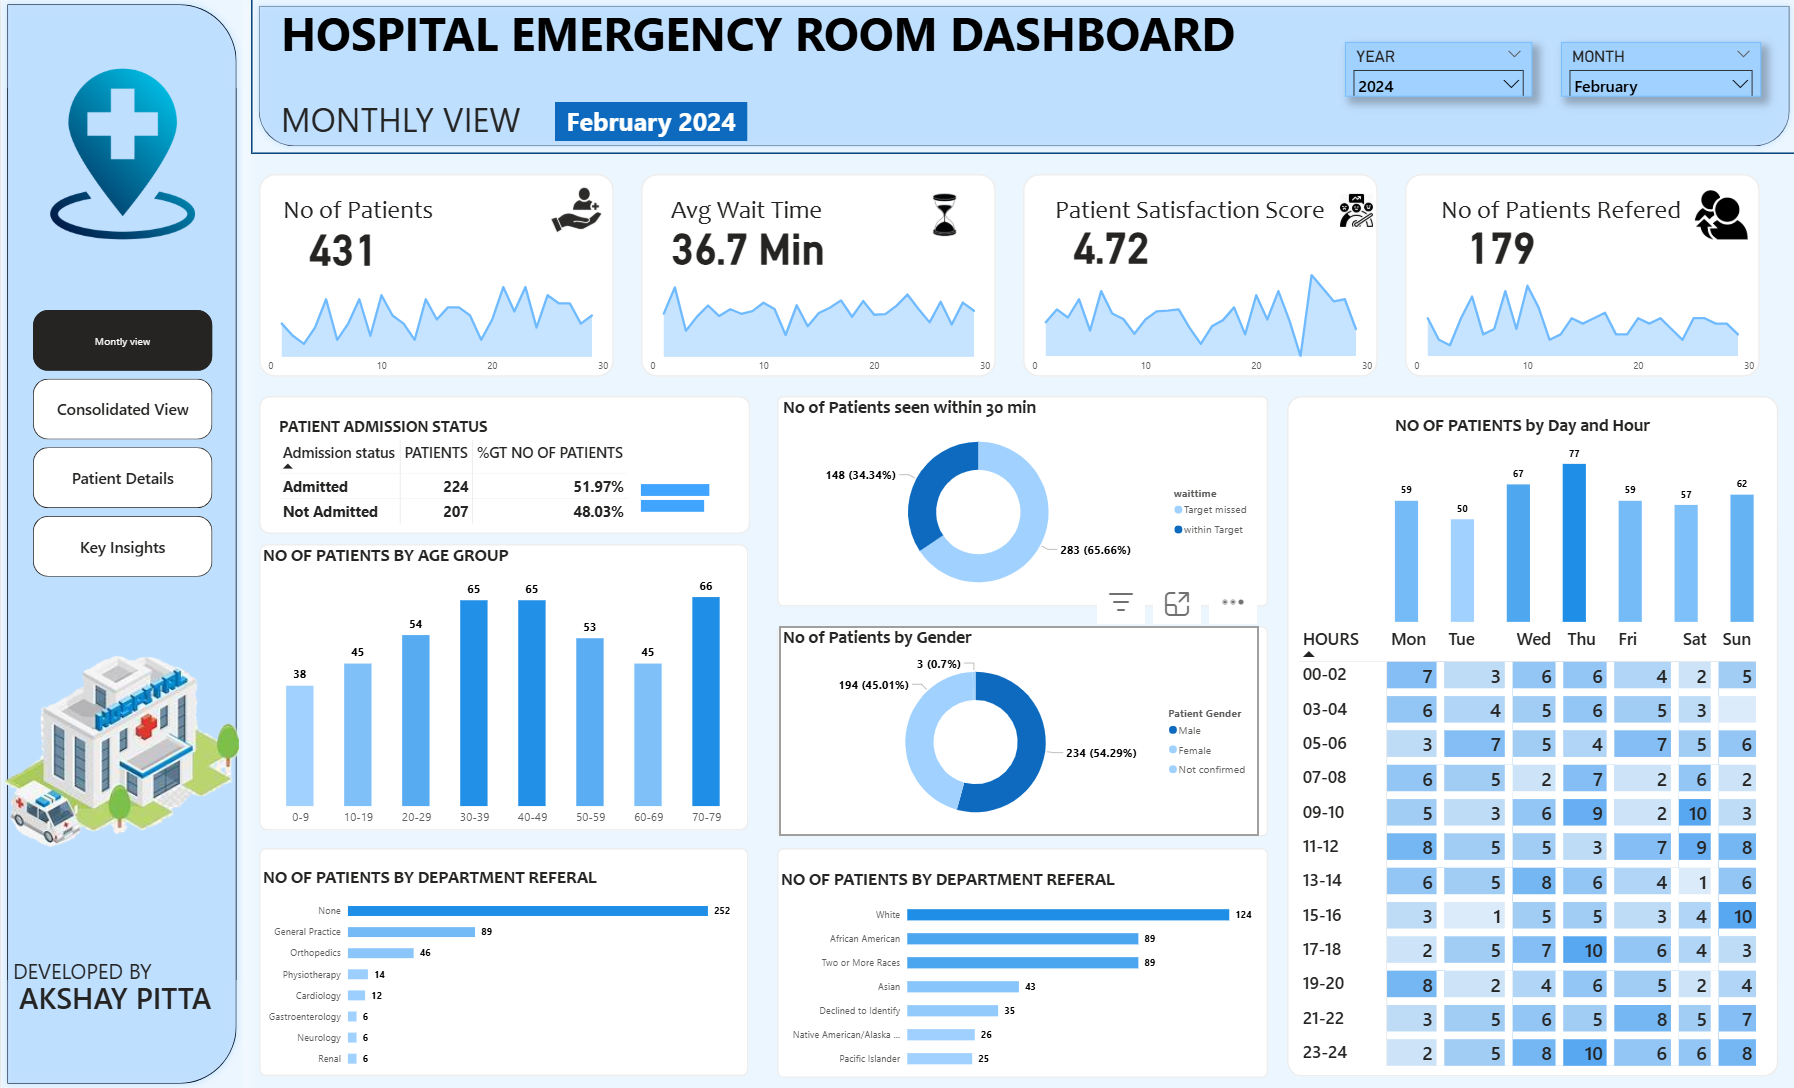

This screenshot's page, from the dashboard's own definition file:
{"tool":"powerbi","page":{"name":"Montly view","canvas":[2300,1400],"ordinal":0},"visuals":[{"type":"shape","box":[1647.5,510,630,872.5],"z":0},{"type":"shape","box":[330,226.7,455,260],"z":1000},{"type":"shape","box":[0,0,310,1400],"z":2000},{"type":"shape","box":[320,0,1982.5,200],"z":3000},{"type":"textbox","box":[355,0,1280,90],"z":4000},{"type":"textbox","box":[355,120,385,80],"z":5000},{"type":"card","fields":{"Values":["Hospital ER_Data.NO OF PATIENTS"]},"box":[356,276,164,80],"z":6000},{"type":"textbox","box":[356.7,246.7,220,56.7],"z":7000},{"type":"areaChart","fields":{"Category":["Date Table.Date.Variation.Date Hierarchy.Day"],"Y":["Hospital ER_Data.NO OF PATIENTS"]},"box":[330,340,456,148],"z":8000},{"type":"slicer","fields":{"Values":["Date Table.MONTH NAME"]},"box":[2000,56.7,256.7,70],"z":9000},{"type":"slicer","fields":{"Values":["Date Table.YEAR"]},"box":[1723.3,56.7,240,70],"z":10000},{"type":"card","fields":{"Values":["Min(Date Table.MONTH & YEAR)"]},"box":[710,133.3,246.7,50],"z":11000},{"type":"shape","box":[820,225,455,260],"z":12000},{"type":"shape","box":[1310,225,455,260],"z":13000},{"type":"shape","box":[1800,225,455,260],"z":14000},{"type":"areaChart","fields":{"Category":["Date Table.Date.Variation.Date Hierarchy.Day"],"Y":["Avg(Hospital ER_Data.Patient Waittime)"]},"box":[820,340,456,148],"z":15000},{"type":"areaChart","fields":{"Category":["Date Table.Date.Variation.Date Hierarchy.Day"],"Y":["Avg(Hospital ER_Data.Patient Satisfaction Score)"]},"box":[1310,340,456,148],"z":16000},{"type":"areaChart","fields":{"Category":["Date Table.Date.Variation.Date Hierarchy.Day"],"Y":["Hospital ER_Data.no of patients refered"]},"box":[1800,340,456,148],"z":17000},{"type":"textbox","box":[852.9,247.1,220,55.7],"z":18000},{"type":"card","fields":{"Values":["Hospital ER_Data.avg wait time"]},"box":[848,274,218,82],"z":19000},{"type":"card","fields":{"Values":["Avg(Hospital ER_Data.Patient Satisfaction Score)"]},"box":[1340,274.4,164.4,80],"z":20000},{"type":"card","fields":{"Values":["Hospital ER_Data.no of patients refered"]},"box":[1841.1,274.4,164.4,80],"z":21000},{"type":"textbox","box":[1346,246,368,58],"z":22000},{"type":"shape","box":[330,510,630,177],"z":22000,"group":"g1"},{"type":"textbox","box":[1842,246,336,56],"z":23000},{"type":"group","id":"g1","title":"Group 1","box":[330,510,630,177],"z":24000},{"type":"pivotTable","title":"PATIENT ADMISSION STATUS","fields":{"Rows":["Hospital ER_Data.admission status"],"Values":["Hospital ER_Data.NO OF PATIENTS1","Divide(Hospital ER_Data.NO OF PATIENTS, ScopedEval(Hospital ER_Data.NO OF PATIENTS, []))"]},"box":[350,536.7,470,150],"z":24000,"group":"g1"},{"type":"barChart","fields":{"Category":["Hospital ER_Data.admission status"],"Y":["Hospital ER_Data.NO OF PATIENTS"]},"box":[815,600,127.5,75],"z":25000,"group":"g1"},{"type":"shape","box":[330,700,627.5,367.5],"z":25000},{"type":"clusteredColumnChart","title":"NO OF PATIENTS BY AGE GROUP","fields":{"Category":["Hospital ER_Data.AGE GROUP"],"Y":["Hospital ER_Data.NO OF PATIENTS"]},"box":[330,700,627.5,370],"z":26000},{"type":"shape","box":[330,1090,627.5,292.5],"z":27000},{"type":"clusteredBarChart","title":"NO OF PATIENTS BY DEPARTMENT REFERAL","fields":{"Category":["Hospital ER_Data.Department Referral"],"Y":["Hospital ER_Data.NO OF PATIENTS"]},"box":[330,1112.5,612.5,270],"z":28000},{"type":"shape","box":[996,510,630,270],"z":29000},{"type":"donutChart","title":"No of Patients seen within 30 min","fields":{"Category":["Hospital ER_Data.waittime"],"Y":["Hospital ER_Data.NO OF PATIENTS"]},"box":[998,510,614,270],"z":30000},{"type":"shape","box":[996,804,630,270],"z":31000},{"type":"donutChart","title":"No of Patients by Gender","fields":{"Category":["Hospital ER_Data.Patient Gender"],"Y":["Hospital ER_Data.NO OF PATIENTS"]},"box":[998,804,614,270],"z":32000},{"type":"shape","box":[995,1090,630,295],"z":33000},{"type":"clusteredBarChart","title":"NO OF PATIENTS BY DEPARTMENT REFERAL","fields":{"Y":["Hospital ER_Data.NO OF PATIENTS"],"Category":["Hospital ER_Data.Patient Race"]},"box":[995,1115,615,270],"z":34000},{"type":"pivotTable","fields":{"Rows":["Hospital ER_Data.Wait time intereval"],"Columns":["Date Table.DAYNAME"],"Values":["Hospital ER_Data.NO OF PATIENTS"]},"box":[1660,800,605,580],"z":35000},{"type":"columnChart","title":"NO OF PATIENTS by Day and Hour","fields":{"Category":["Date Table.DAYNAME"],"Y":["Hospital ER_Data.NO OF PATIENTS"]},"box":[1782.5,532.5,472.5,272.5],"z":36000},{"type":"image","box":[690,165,95,215],"z":37000},{"type":"image","box":[1189.4,240.6,40,73.8],"z":38000},{"type":"image","box":[1710,227.5,55,87.5],"z":39000},{"type":"image","box":[2166.2,240,77.5,73.8],"z":40000},{"type":"image","box":[40,0,230,400],"z":41000},{"type":"pageNavigator","box":[40,400,230,342.5],"z":42000},{"type":"image","box":[0,700,310,525],"z":43000},{"type":"textbox","box":[10,1222.5,197.5,55],"z":44000},{"type":"textbox","box":[17.5,1250,277.5,60],"z":45000}]}

Visuals, with their boxes in screenshot pixels (x1, y1, x2, y2), scaled from the page's 2300x1400 canvas onto the 1794x1088 screenshot:
shape: bbox=(1285, 396, 1776, 1074)
shape: bbox=(257, 176, 612, 378)
shape: bbox=(0, 0, 242, 1087)
shape: bbox=(250, 0, 1793, 155)
textbox: bbox=(277, 0, 1275, 70)
textbox: bbox=(277, 93, 577, 155)
card - Hospital ER_Data.NO OF PATIENTS: bbox=(278, 214, 406, 277)
textbox: bbox=(278, 192, 450, 236)
areaChart - Date Table.Date.Variation.Date Hierarchy.Day x Hospital ER_Data.NO OF PATIENTS: bbox=(257, 264, 613, 379)
slicer - Date Table.MONTH NAME: bbox=(1560, 44, 1760, 98)
slicer - Date Table.YEAR: bbox=(1344, 44, 1531, 98)
card - Min(Date Table.MONTH & YEAR): bbox=(554, 104, 746, 142)
shape: bbox=(640, 175, 994, 377)
shape: bbox=(1022, 175, 1377, 377)
shape: bbox=(1404, 175, 1759, 377)
areaChart - Date Table.Date.Variation.Date Hierarchy.Day x Avg(Hospital ER_Data.Patient Waittime): bbox=(640, 264, 995, 379)
areaChart - Date Table.Date.Variation.Date Hierarchy.Day x Avg(Hospital ER_Data.Patient Satisfaction Score): bbox=(1022, 264, 1377, 379)
areaChart - Date Table.Date.Variation.Date Hierarchy.Day x Hospital ER_Data.no of patients refered: bbox=(1404, 264, 1760, 379)
textbox: bbox=(665, 192, 837, 235)
card - Hospital ER_Data.avg wait time: bbox=(661, 213, 831, 277)
card - Avg(Hospital ER_Data.Patient Satisfaction Score): bbox=(1045, 213, 1173, 275)
card - Hospital ER_Data.no of patients refered: bbox=(1436, 213, 1564, 275)
textbox: bbox=(1050, 191, 1337, 236)
shape: bbox=(257, 396, 749, 534)
textbox: bbox=(1437, 191, 1699, 235)
"Group 1" group: bbox=(257, 396, 749, 534)
"PATIENT ADMISSION STATUS" pivotTable: bbox=(273, 417, 640, 534)
barChart - Hospital ER_Data.admission status x Hospital ER_Data.NO OF PATIENTS: bbox=(636, 466, 735, 525)
shape: bbox=(257, 544, 747, 830)
"NO OF PATIENTS BY AGE GROUP" clusteredColumnChart: bbox=(257, 544, 747, 832)
shape: bbox=(257, 847, 747, 1074)
"NO OF PATIENTS BY DEPARTMENT REFERAL" clusteredBarChart: bbox=(257, 865, 735, 1074)
shape: bbox=(777, 396, 1268, 606)
"No of Patients seen within 30 min" donutChart: bbox=(778, 396, 1257, 606)
shape: bbox=(777, 625, 1268, 835)
"No of Patients by Gender" donutChart: bbox=(778, 625, 1257, 835)
shape: bbox=(776, 847, 1268, 1076)
"NO OF PATIENTS BY DEPARTMENT REFERAL" clusteredBarChart: bbox=(776, 867, 1256, 1076)
pivotTable - Hospital ER_Data.Wait time intereval x Date Table.DAYNAME: bbox=(1295, 622, 1767, 1072)
"NO OF PATIENTS by Day and Hour" columnChart: bbox=(1390, 414, 1759, 626)
image: bbox=(538, 128, 612, 295)
image: bbox=(928, 187, 959, 244)
image: bbox=(1334, 177, 1377, 245)
image: bbox=(1690, 187, 1750, 244)
image: bbox=(31, 0, 211, 311)
pageNavigator: bbox=(31, 311, 211, 577)
image: bbox=(0, 544, 242, 952)
textbox: bbox=(8, 950, 162, 993)
textbox: bbox=(14, 971, 230, 1018)
